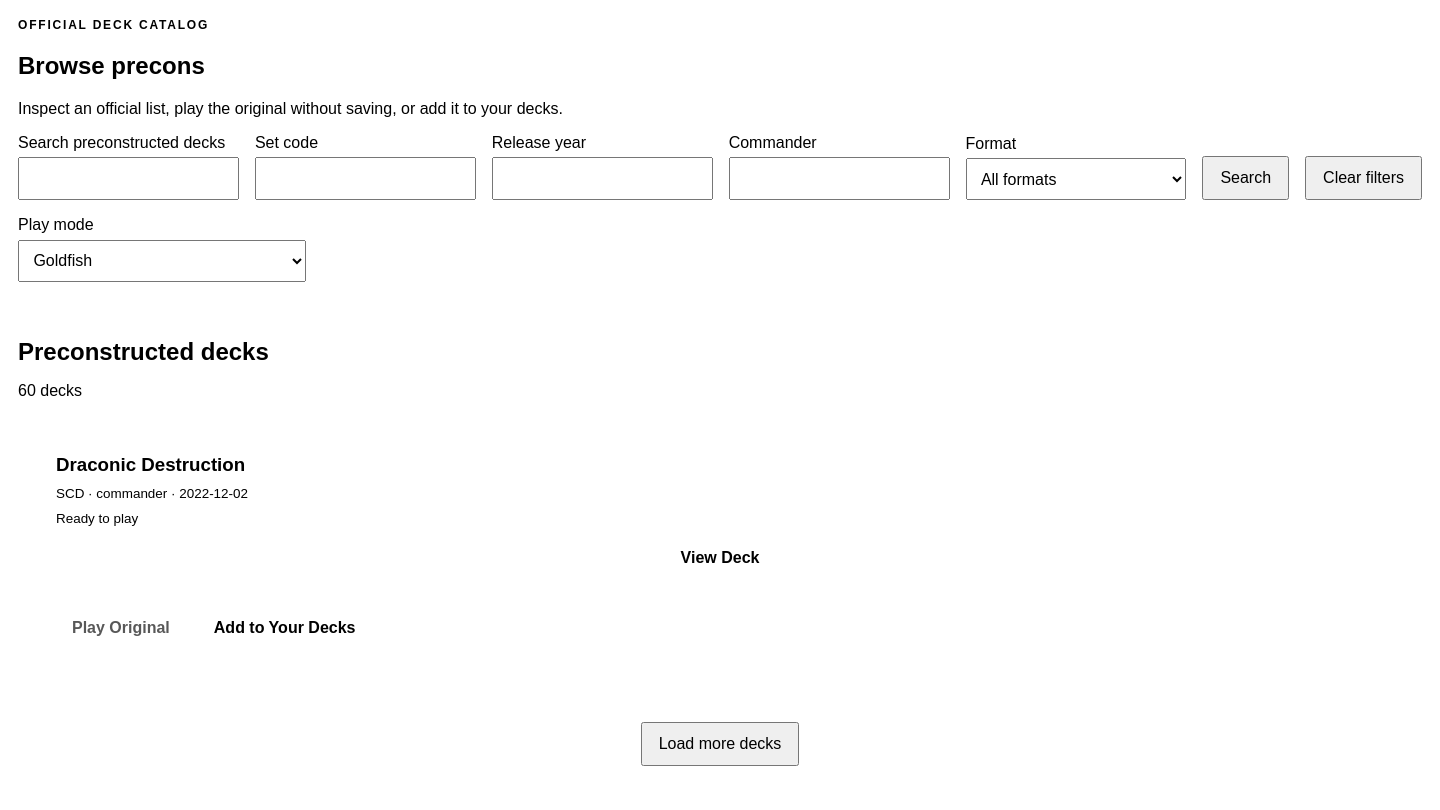
it: catalog filters and infinite scrolling append server batches
The width and height of the screenshot is (1440, 810).
Expected: the heading "Draconic Destruction" is shown, x1=56 y1=454 x2=245 y2=475
In the field labelled "Search preconstructed decks": (128, 179) x1=18 y1=157 x2=239 y2=200, type "dragon"
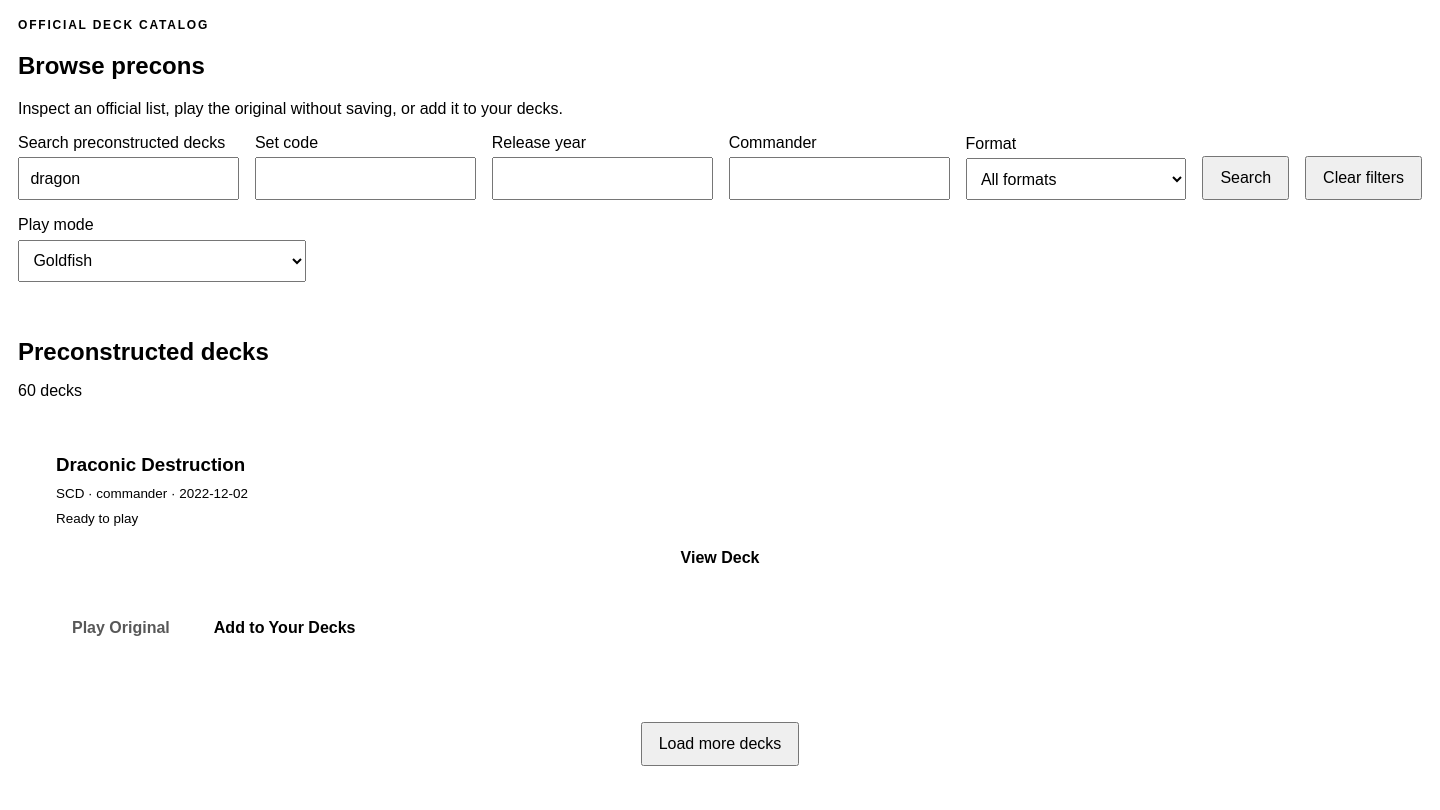
In the field labelled "Set code": (365, 179) x1=255 y1=157 x2=476 y2=200, type "SCD"
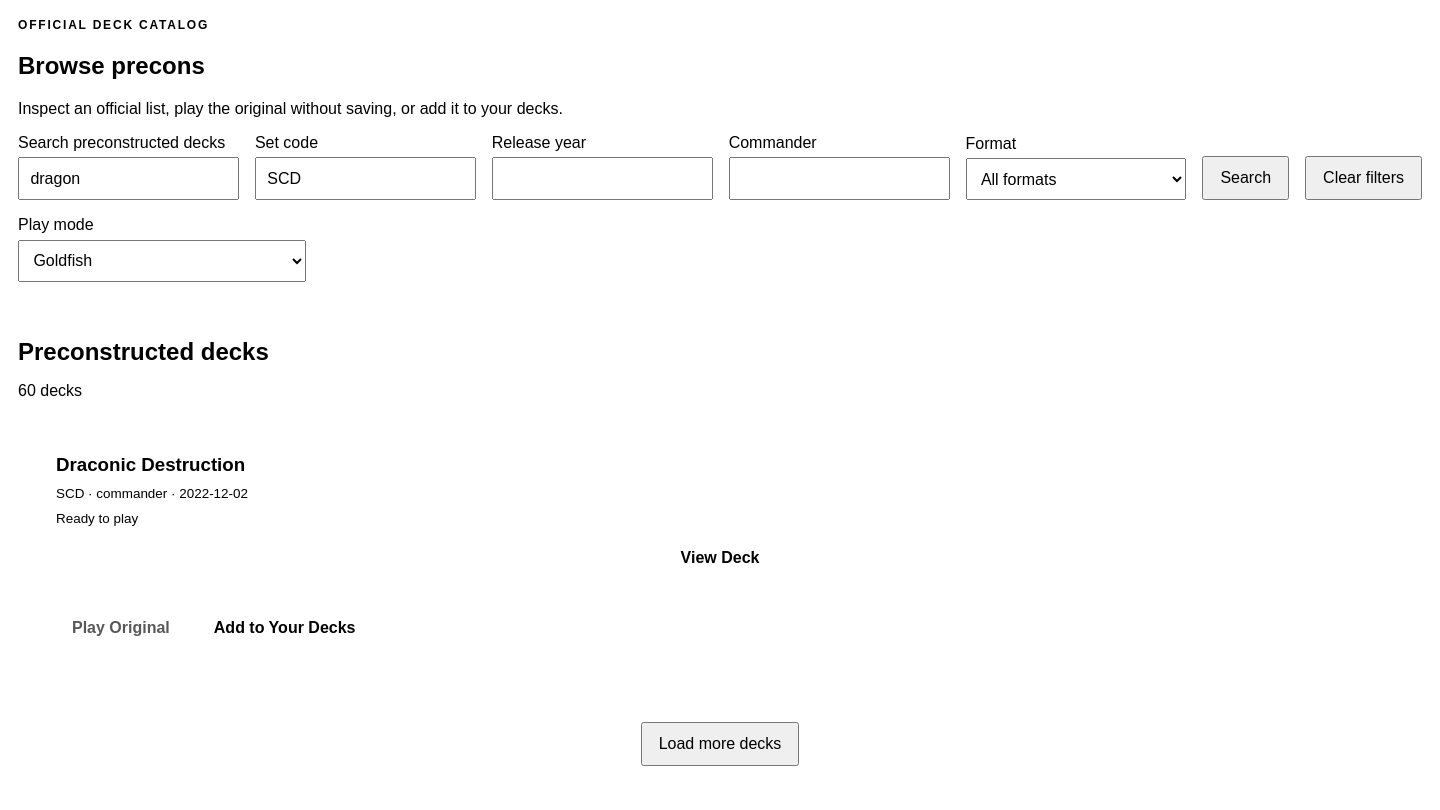
In the number field labelled "Release year": (602, 179) x1=492 y1=157 x2=713 y2=200, type "2022"
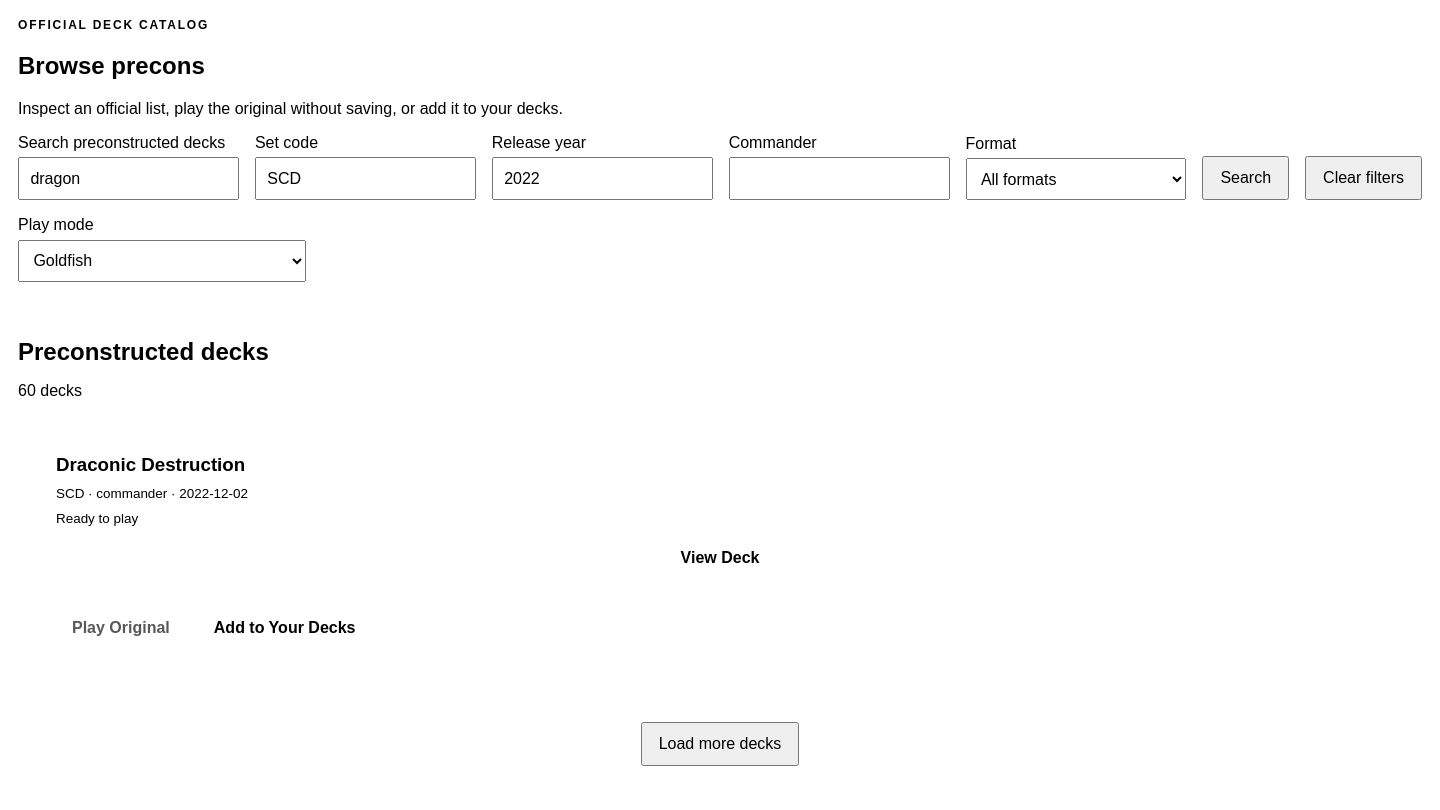
In the field labelled "Commander": (839, 179) x1=729 y1=157 x2=950 y2=200, type "Atarka"
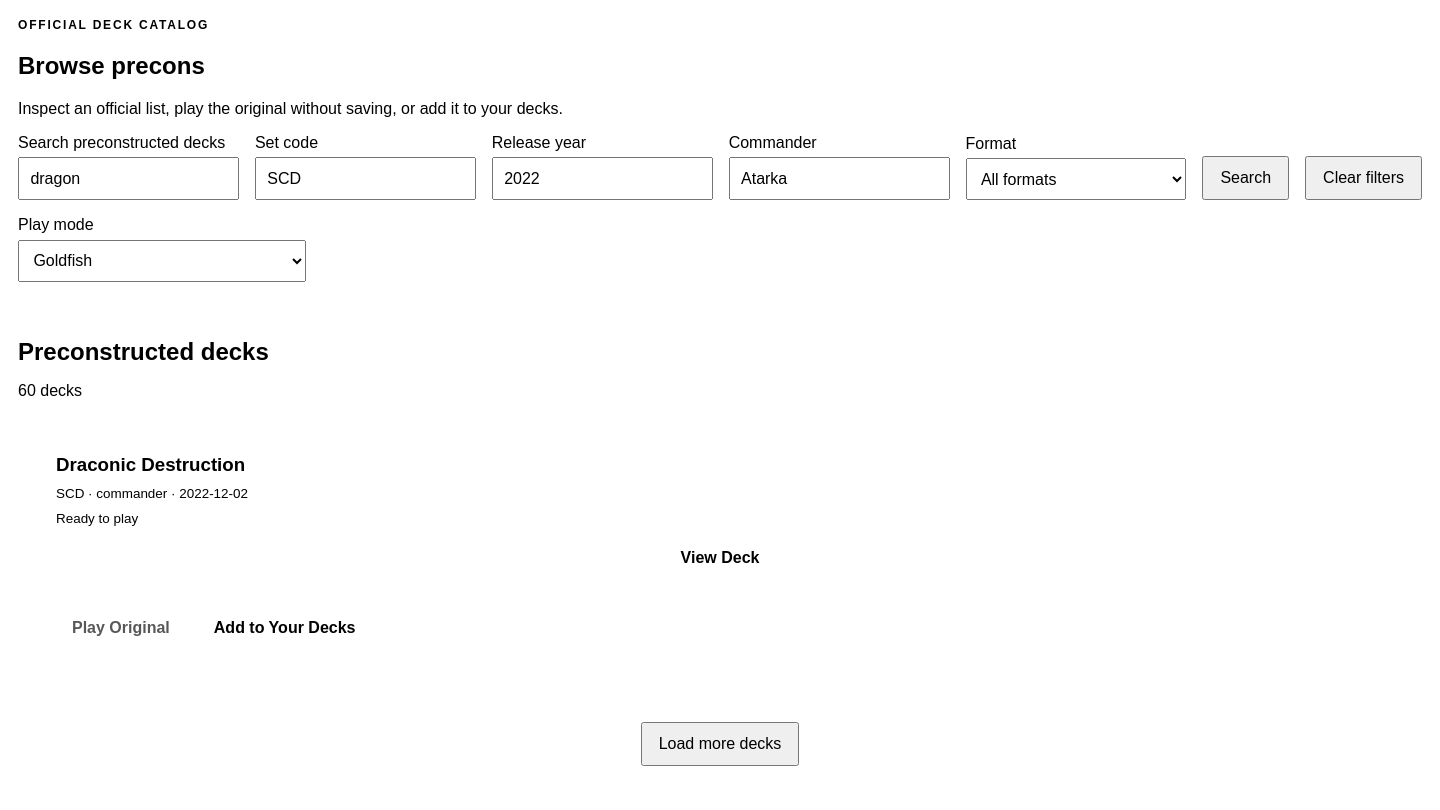
Select "commander" in the dropdown labelled "Format": (1076, 179) x1=966 y1=158 x2=1186 y2=200
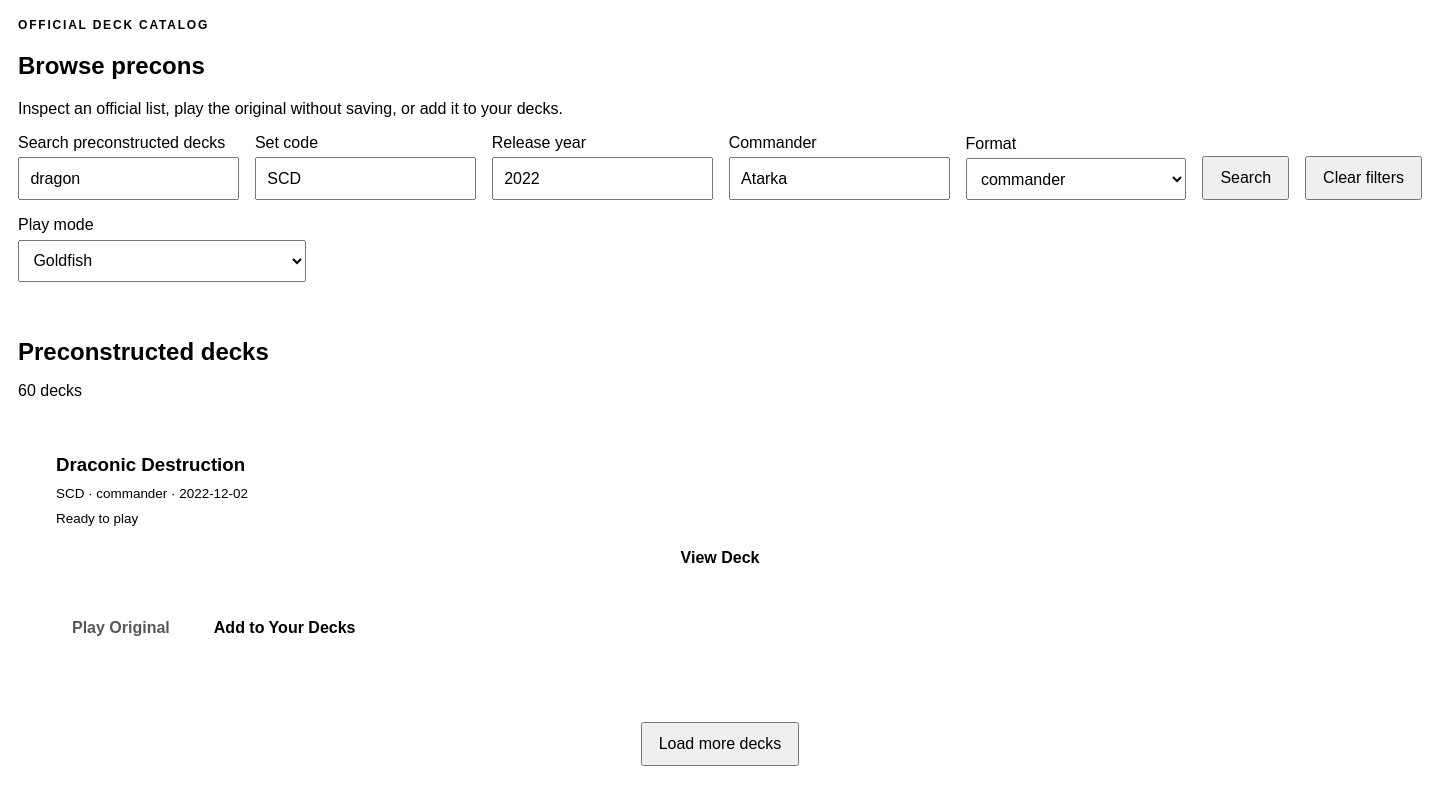
Click the button "Search": (1246, 178) x1=1202 y1=156 x2=1289 y2=200
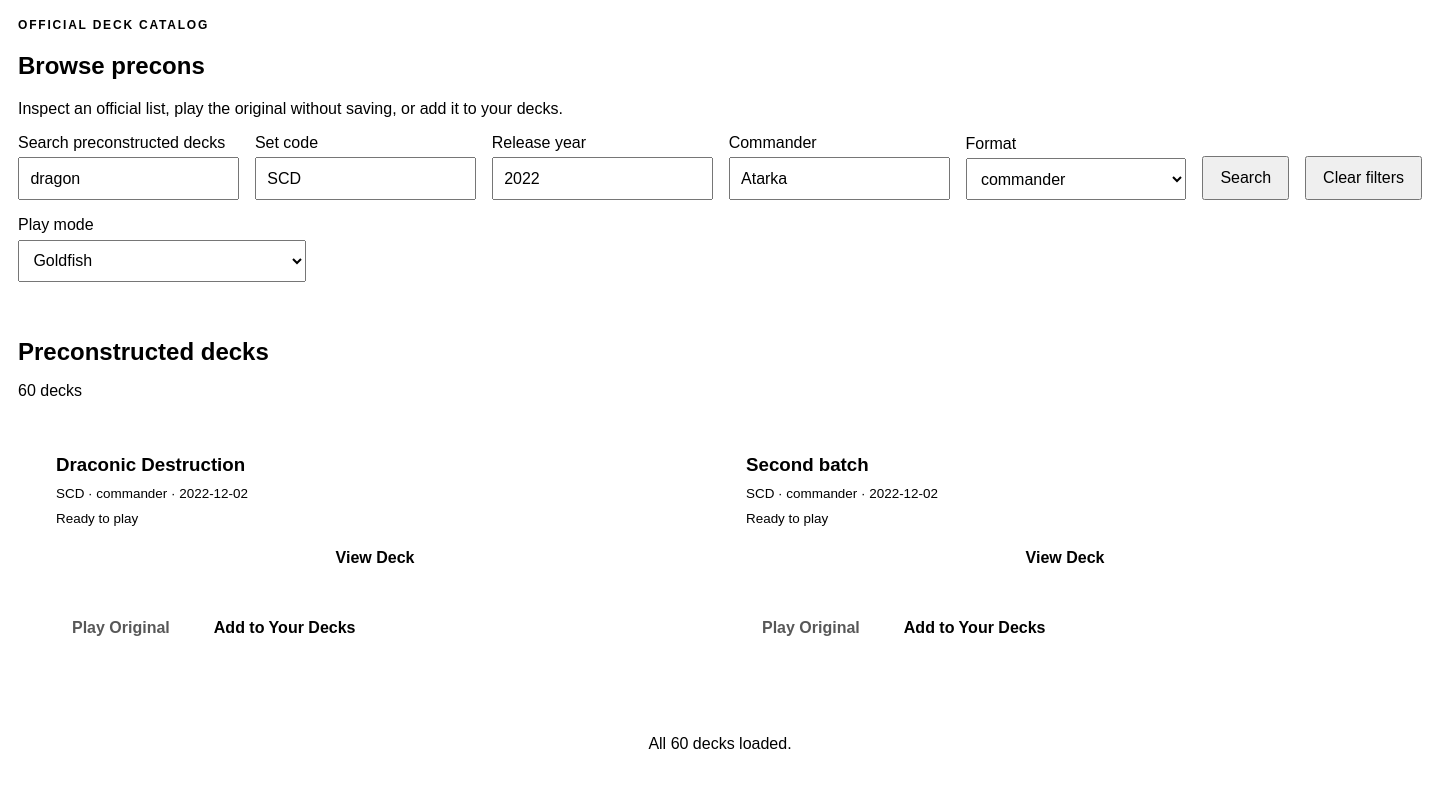
Expected: the heading "Second batch" is shown, x1=746 y1=454 x2=869 y2=475
